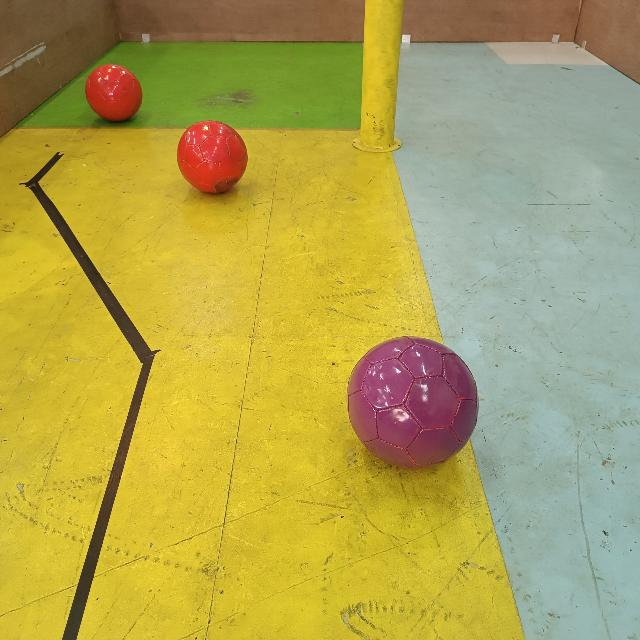P: (342, 332, 482, 470)
R: (176, 119, 248, 195), (84, 64, 144, 122)
